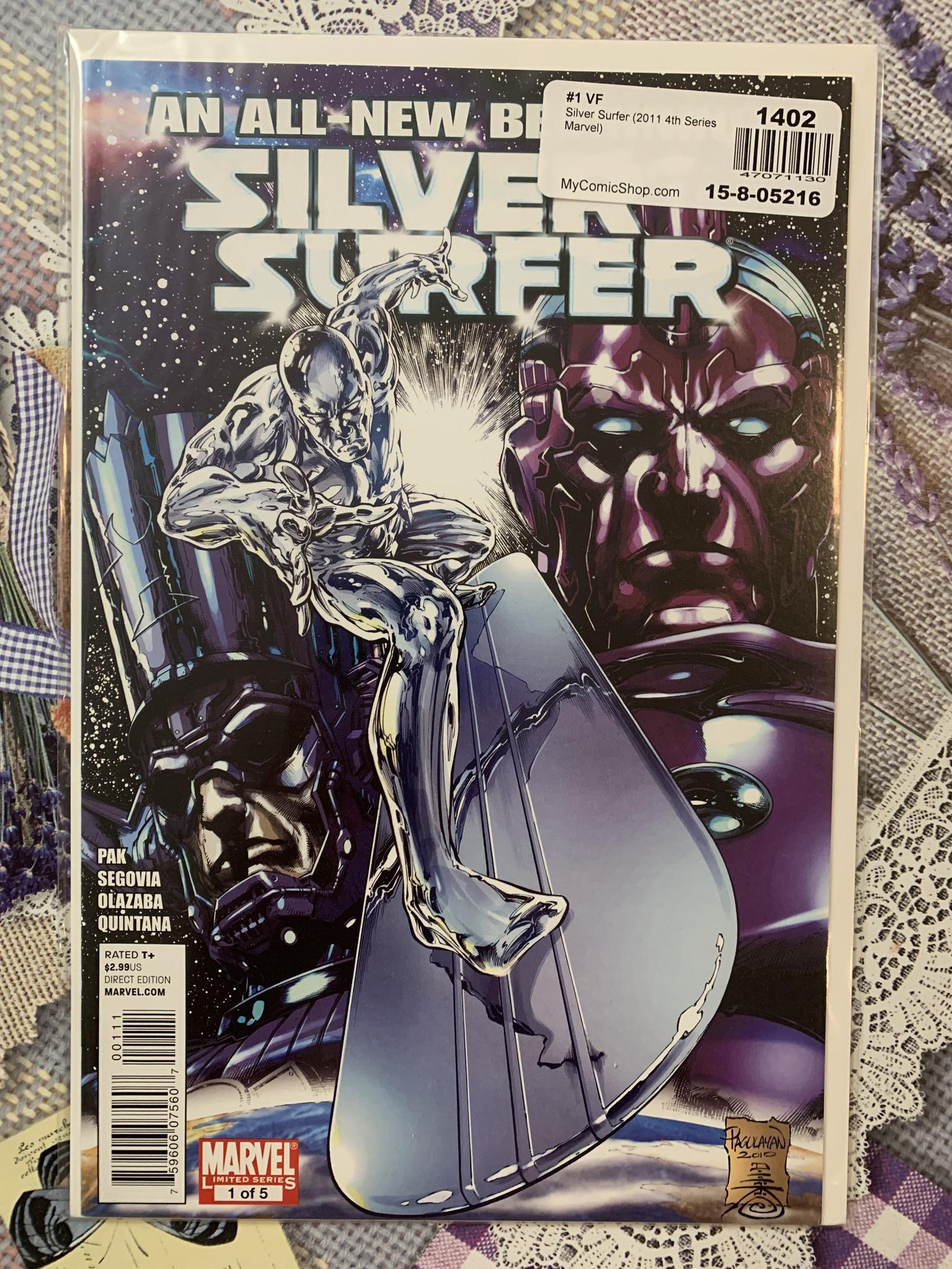comic: (46, 30, 877, 1249)
